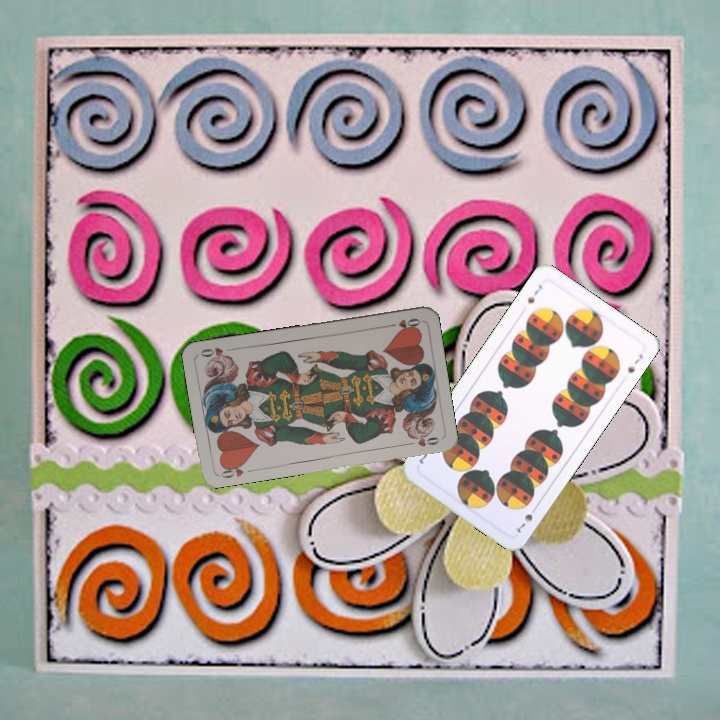HO: (383, 314, 423, 332), (215, 459, 247, 481)
S7: (512, 502, 540, 535), (523, 281, 545, 306)
